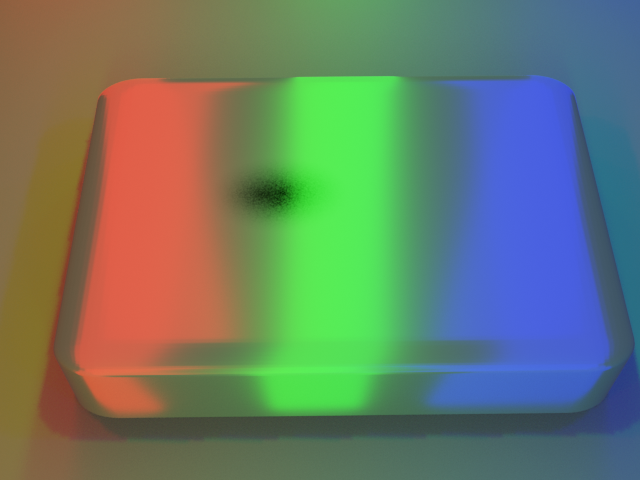stain: (149, 136, 369, 258)
